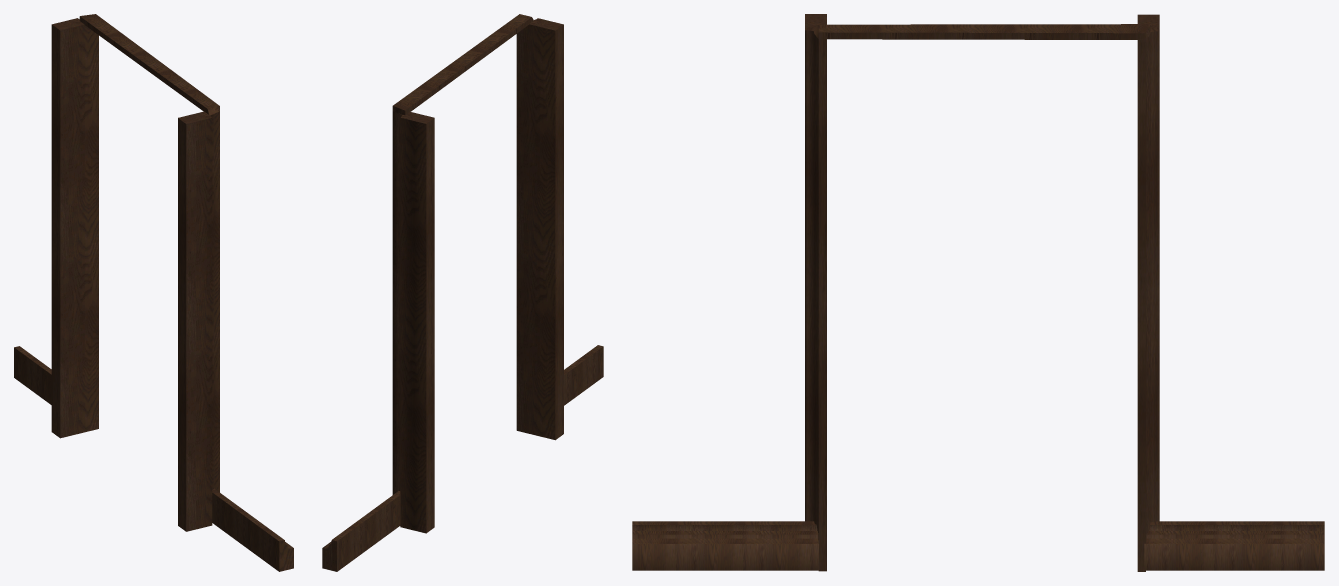
Rendered from soupdoortrim004.obj.
The picture shows the model from 3 angles, left to right: view 1: azimuth 30°, elevation 25°; view 2: azimuth 150°, elevation 25°; view 3: azimuth 270°, elevation 25°; orthographic projection. The views are drawn at different scales.
Visible parts, largest first — view 1: soupdoortrim004_high_1; view 2: soupdoortrim004_high_1; view 3: soupdoortrim004_high_1.
Part boxes in pixels (x1=…): soupdoortrim004_high_1: x1=14, y1=14, x2=293, y2=571; soupdoortrim004_high_1: x1=322, y1=14, x2=603, y2=571; soupdoortrim004_high_1: x1=632, y1=14, x2=1324, y2=571.
Bounding box in the file's own units: 0.2435 × 2.32 × 2.7.
